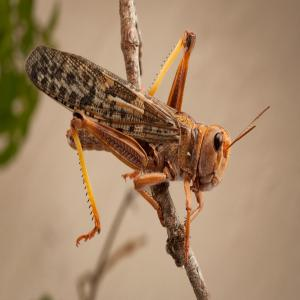locust: (26, 34, 273, 194)
